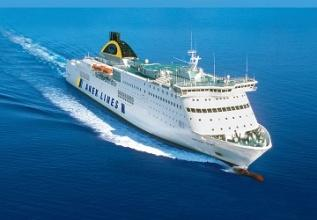youlun: (68, 22, 272, 168)
